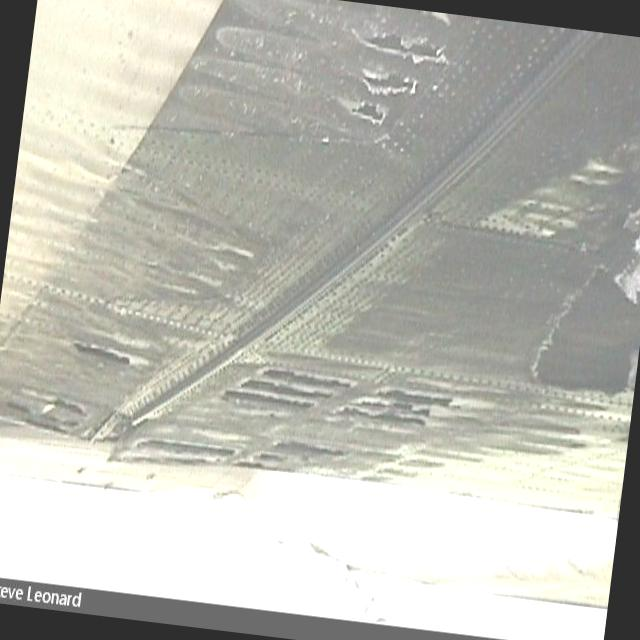crack: (334, 24, 454, 140)
